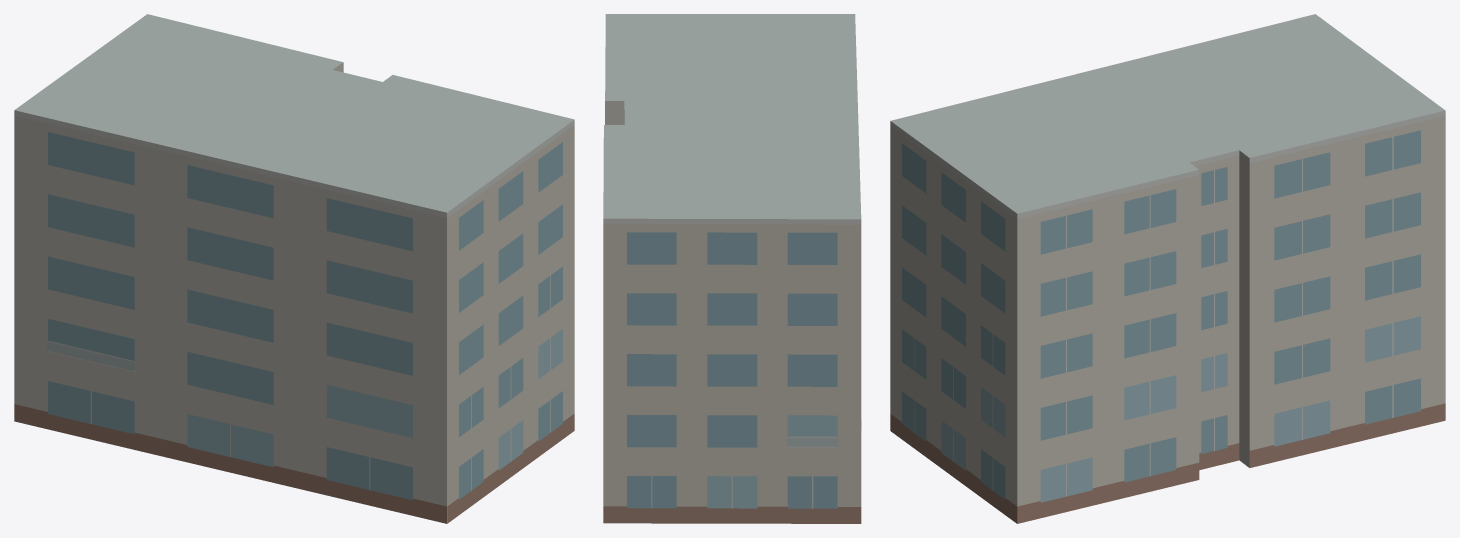
Rendered from survey-upis-32721118.glb.
The picture shows the model from 3 angles, left to right: view 1: azimuth 30°, elevation 25°; view 2: azimuth 150°, elevation 25°; view 3: azimuth 270°, elevation 25°; orthographic projection. The views are drawn at different scales.
Visible parts, largest first — view 1: survey-upis-32721118.tmp; view 2: survey-upis-32721118.tmp; view 3: survey-upis-32721118.tmp.
Boxes of the visible parts, box(x1,y1,x2,y2) form: survey-upis-32721118.tmp: box(14, 14, 574, 523); survey-upis-32721118.tmp: box(603, 14, 861, 523); survey-upis-32721118.tmp: box(890, 14, 1445, 523).
Bounding box in the file's own units: 19.48 × 14.1 × 22.88.
